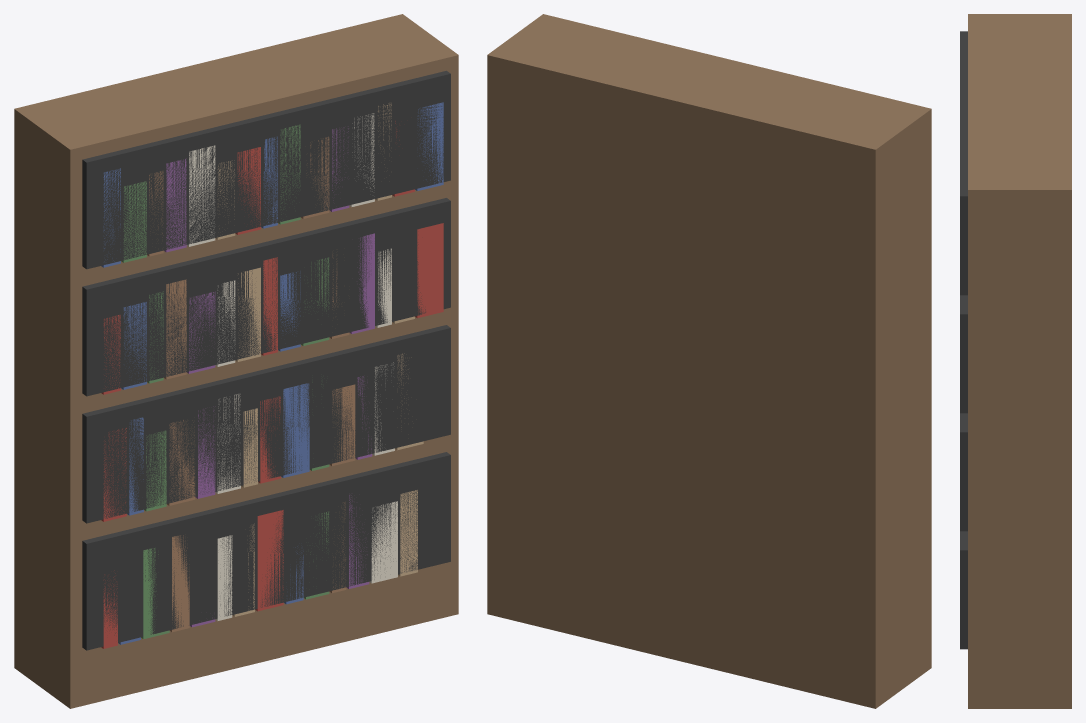
The model's file is bookshelf.glb.
The picture shows the model from 3 angles, left to right: view 1: azimuth 30°, elevation 25°; view 2: azimuth 150°, elevation 25°; view 3: azimuth 270°, elevation 25°; orthographic projection. The views are drawn at different scales.
Parts seen in each view (by area): view 1: bookshelf_medieval; view 2: bookshelf_medieval; view 3: bookshelf_medieval.
Boxes of the visible parts, left/top/right/bottom form: bookshelf_medieval: left=14, top=14, right=458, bottom=708; bookshelf_medieval: left=487, top=14, right=931, bottom=708; bookshelf_medieval: left=960, top=14, right=1071, bottom=708.
Size of the model in its own units: 1.6 by 2.2 by 0.43.
